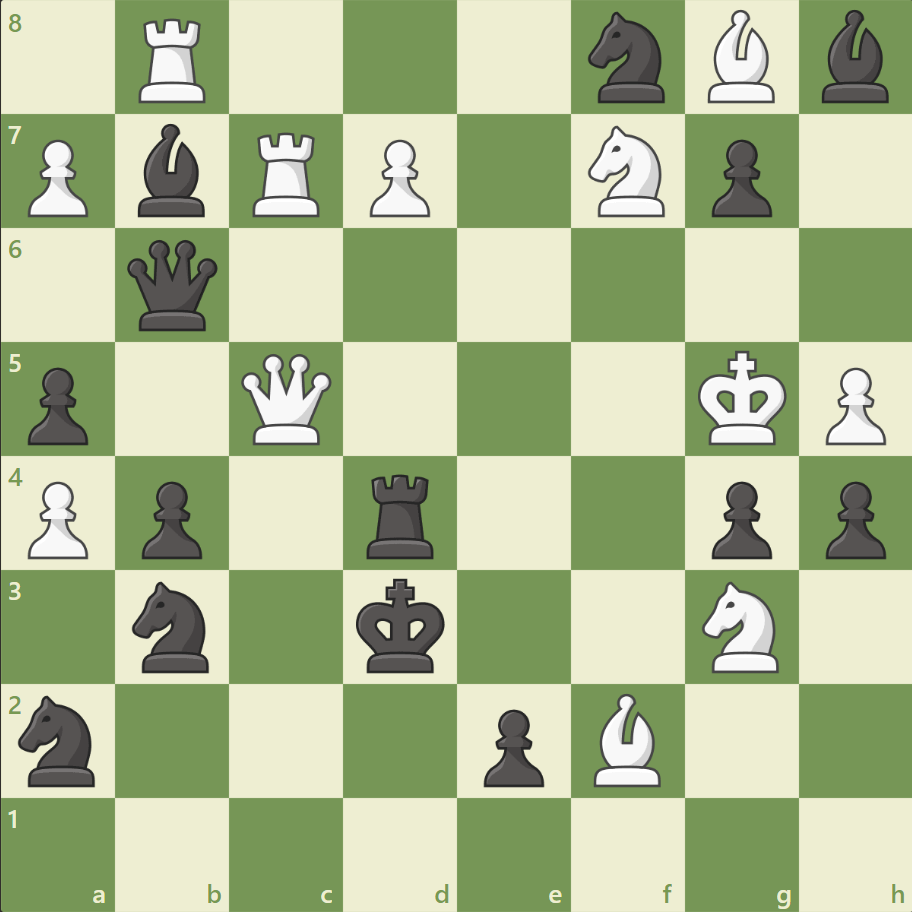B: (698, 6, 782, 109), (585, 687, 669, 790)
K: (692, 344, 792, 452)
N: (579, 121, 676, 223), (692, 575, 789, 677)
P: (20, 132, 95, 223), (20, 473, 95, 564), (361, 132, 435, 223), (815, 359, 889, 450)
Q: (237, 349, 336, 449)
R: (246, 125, 329, 222), (133, 12, 215, 109)
b: (812, 6, 896, 109), (131, 120, 215, 222)
k: (351, 571, 451, 679)
n: (124, 575, 222, 677), (579, 7, 676, 110), (11, 688, 108, 791)
p: (701, 132, 776, 223), (20, 359, 95, 450), (133, 473, 208, 564), (701, 473, 776, 564), (474, 700, 549, 791), (815, 473, 889, 564)
q: (124, 236, 223, 335)
r: (360, 466, 442, 563)
